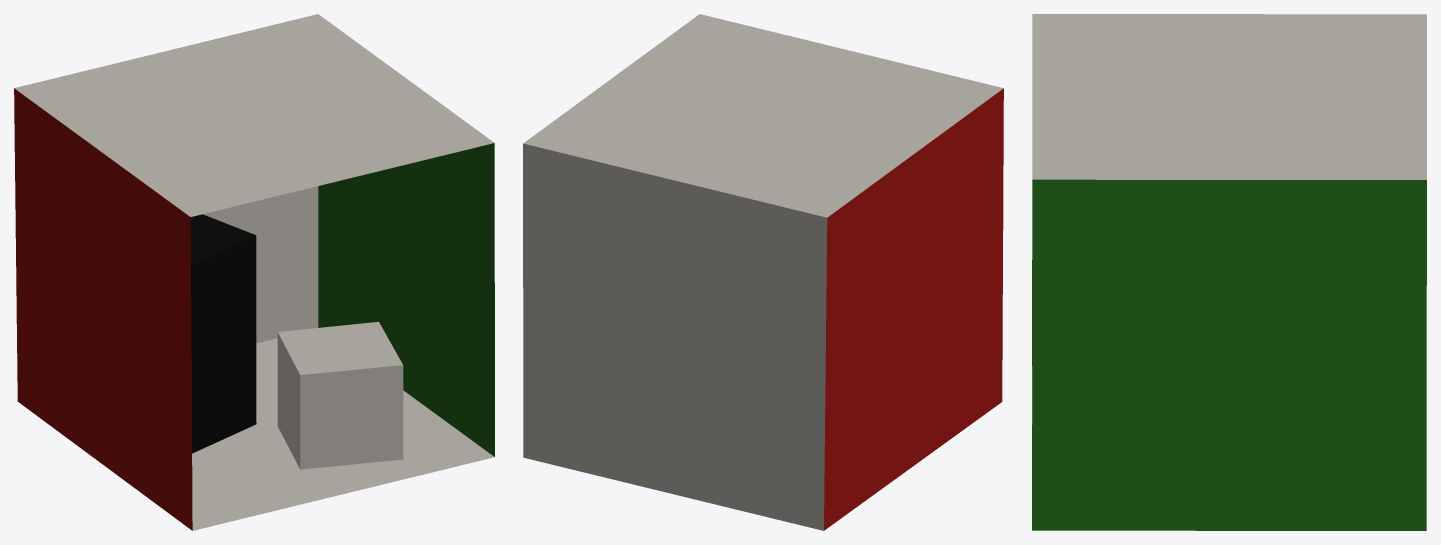
Rendered from cornell-box-mirror.obj.
3 views of the same model, side by side, from view 1: azimuth 30°, elevation 25°; view 2: azimuth 150°, elevation 25°; view 3: azimuth 270°, elevation 25° (orthographic). The views are drawn at different scales.
Parts seen in each view (by area): view 1: left_wall, ceiling, right_wall, floor, short_box, tall_box, back_wall; view 2: back_wall, left_wall, ceiling; view 3: right_wall, ceiling.
Boxes of the visible parts, x1,y1,x2,y2 form: left_wall: (14, 88, 192, 530); ceiling: (14, 14, 494, 216); right_wall: (318, 143, 494, 456); floor: (192, 338, 494, 530); short_box: (277, 322, 403, 469); tall_box: (190, 214, 256, 453); back_wall: (203, 186, 318, 343); back_wall: (523, 143, 827, 530); left_wall: (824, 88, 1003, 530); ceiling: (523, 14, 1003, 217); right_wall: (1032, 179, 1426, 530); ceiling: (1032, 14, 1426, 179).
Size of the model in its own units: 5.56 by 5.49 by 5.6.
